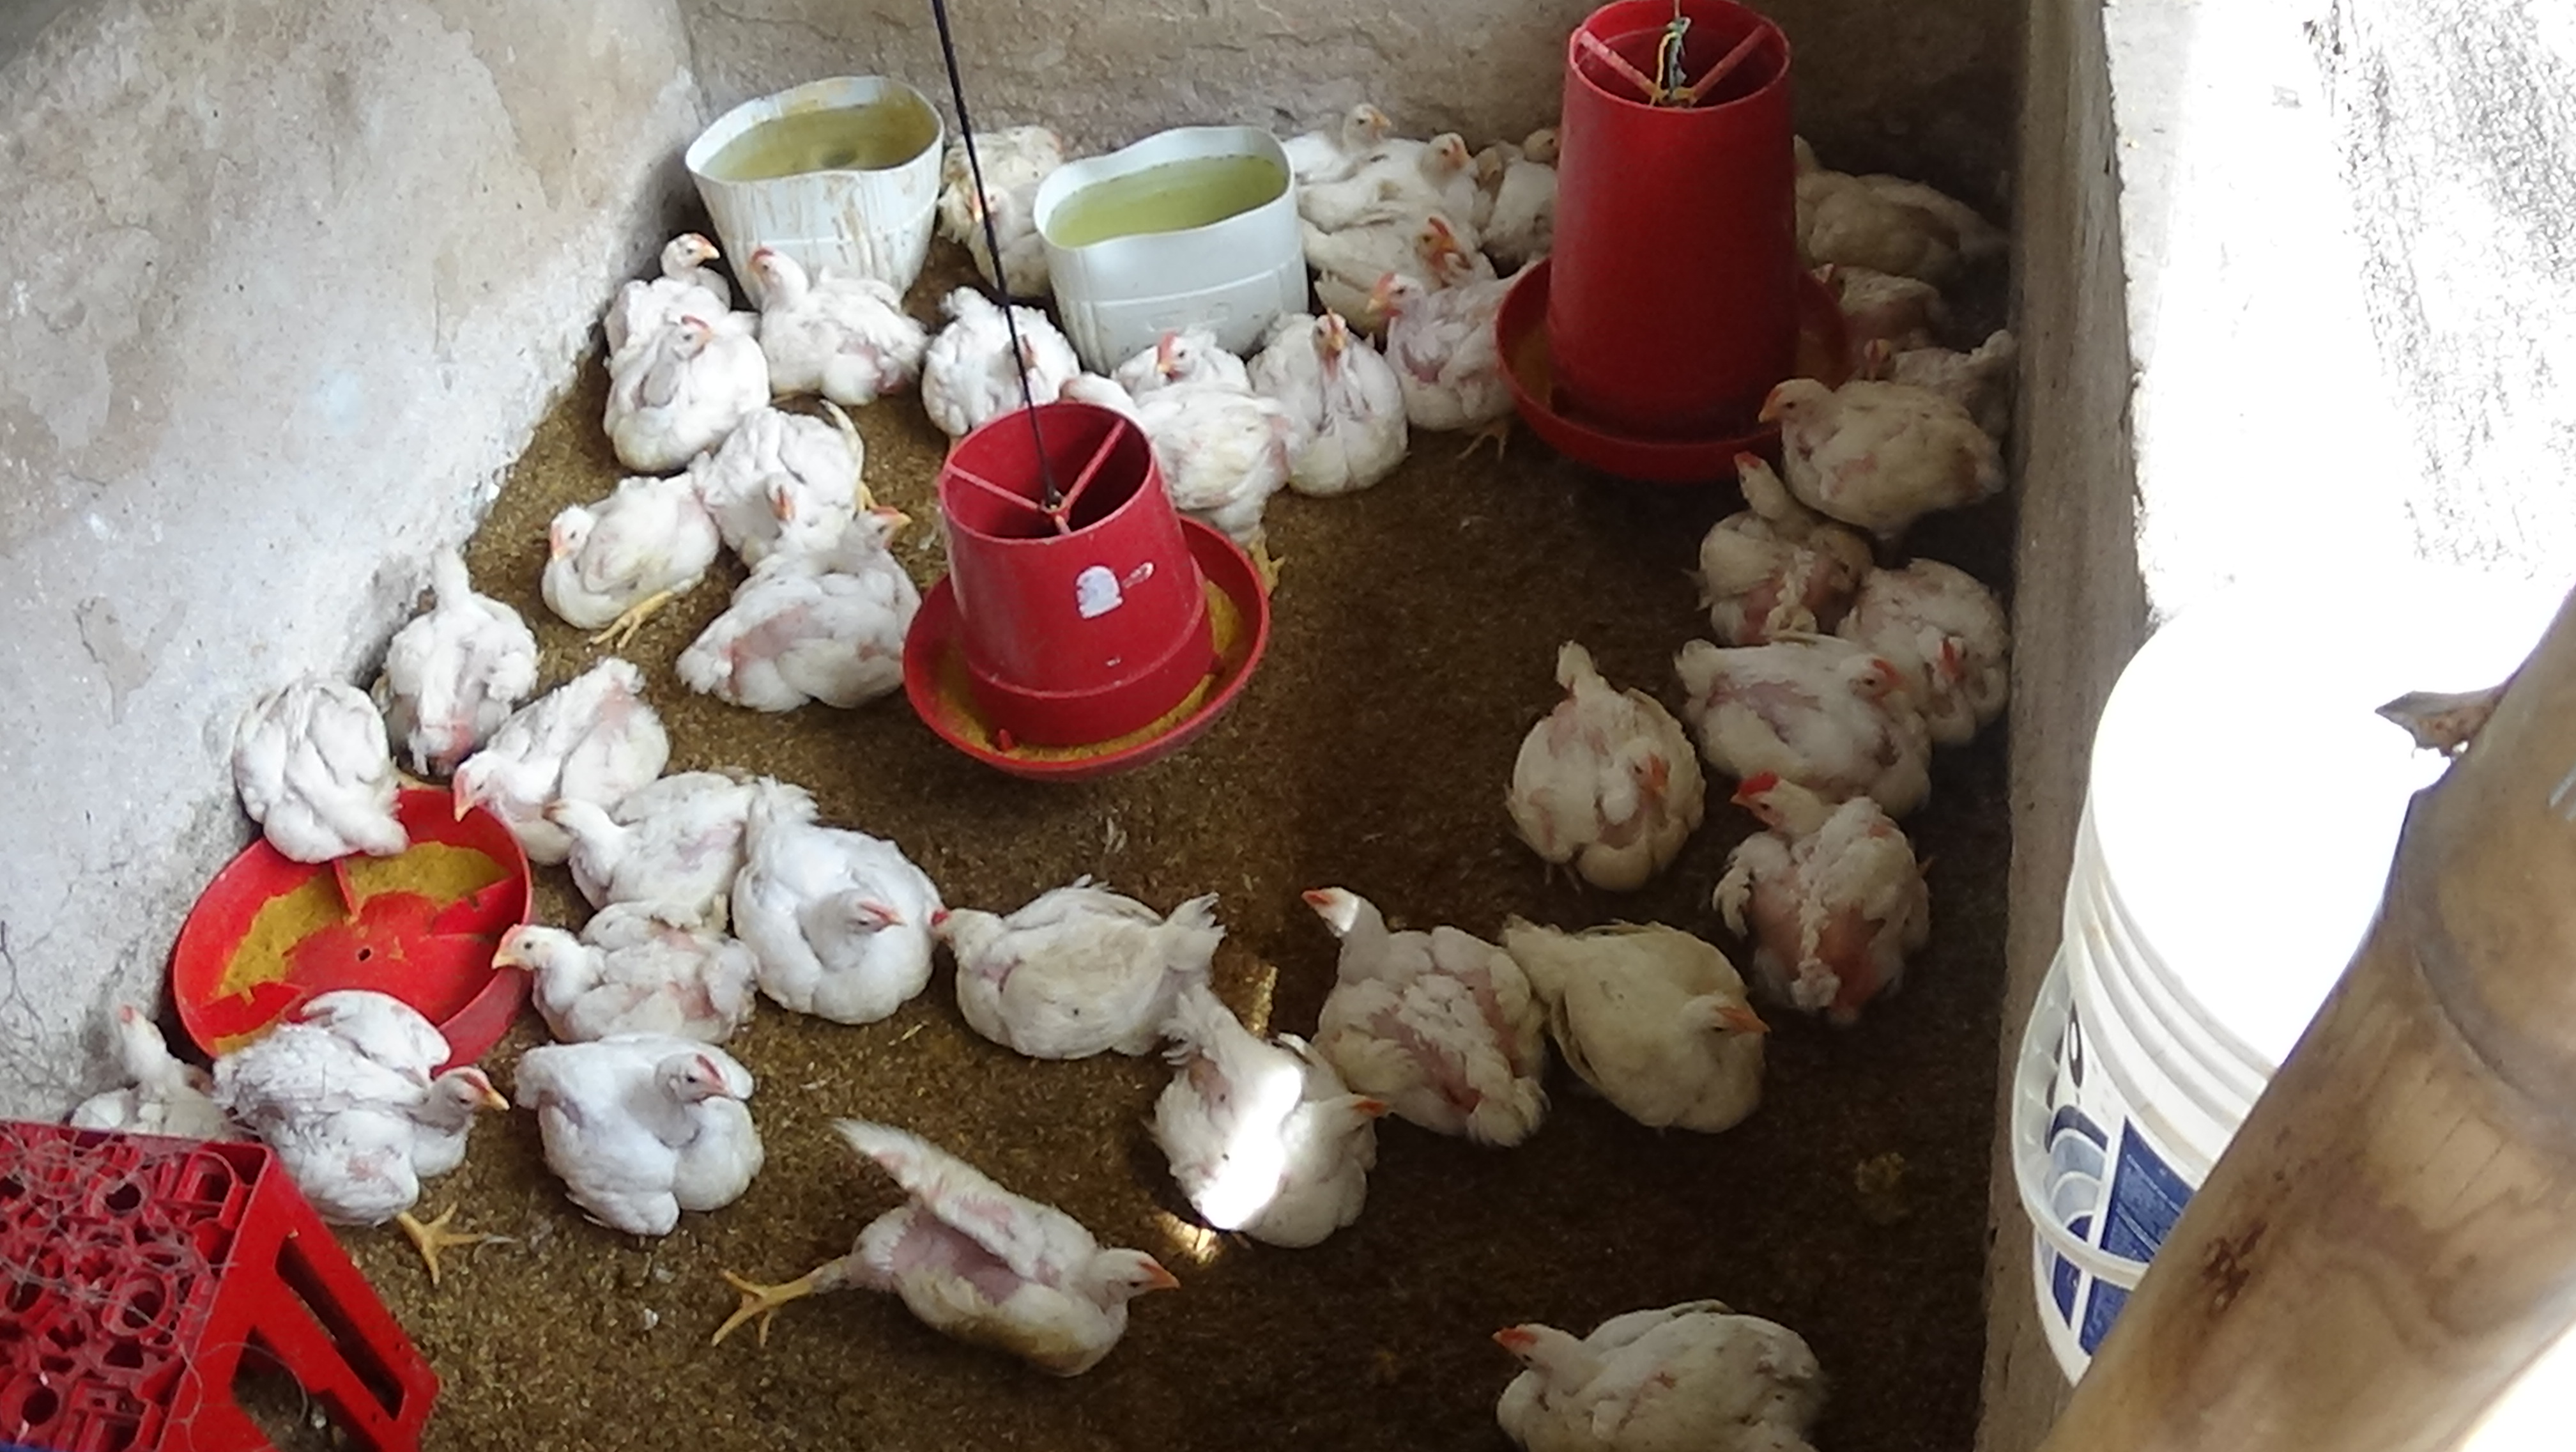Pollos: (694, 1100, 1191, 1395), (207, 981, 536, 1286), (1292, 850, 1543, 1158), (1155, 972, 1414, 1261), (1695, 765, 1944, 1041), (1499, 908, 1783, 1149), (681, 476, 943, 726), (1474, 1278, 1847, 1452), (520, 1015, 778, 1264), (939, 859, 1253, 1061), (1483, 620, 1711, 894), (1046, 374, 1313, 593), (352, 531, 547, 790), (729, 811, 955, 1032), (1677, 629, 1950, 799), (211, 653, 410, 884), (1750, 347, 2012, 522), (1362, 251, 1559, 480), (451, 653, 669, 859), (483, 896, 766, 1052), (511, 459, 727, 653), (1665, 441, 1868, 637), (1838, 540, 2017, 747), (25, 988, 235, 1163), (545, 763, 814, 900), (741, 227, 936, 404), (1256, 292, 1410, 498), (584, 310, 763, 483), (699, 397, 872, 568), (909, 280, 1095, 429), (934, 106, 1076, 292), (1295, 101, 1495, 230), (1288, 209, 1502, 319), (596, 225, 738, 356), (1256, 81, 1422, 182), (1095, 301, 1253, 388)
